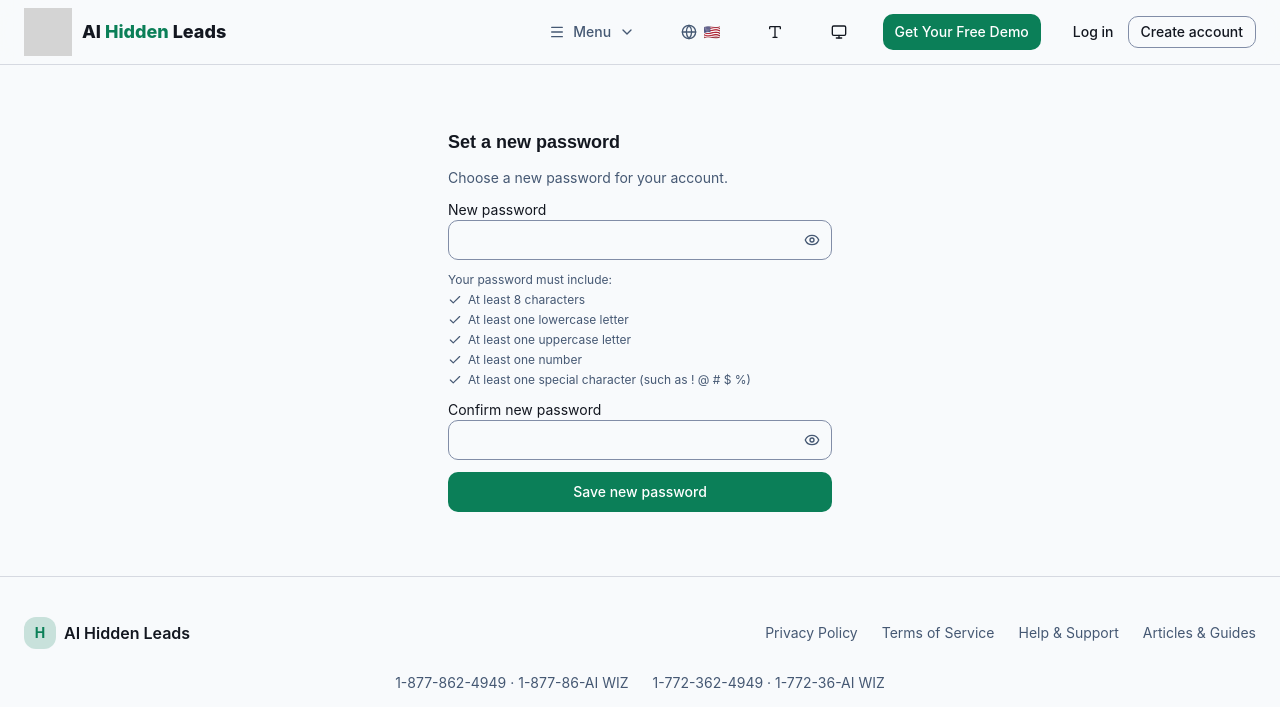
Test: /update-password › rejects passwords shorter than 8 characters before calling Supabase
The image size is (1280, 707).
Type "short" into the password field labelled "New password" at (640, 240), box [448,220,832,260]
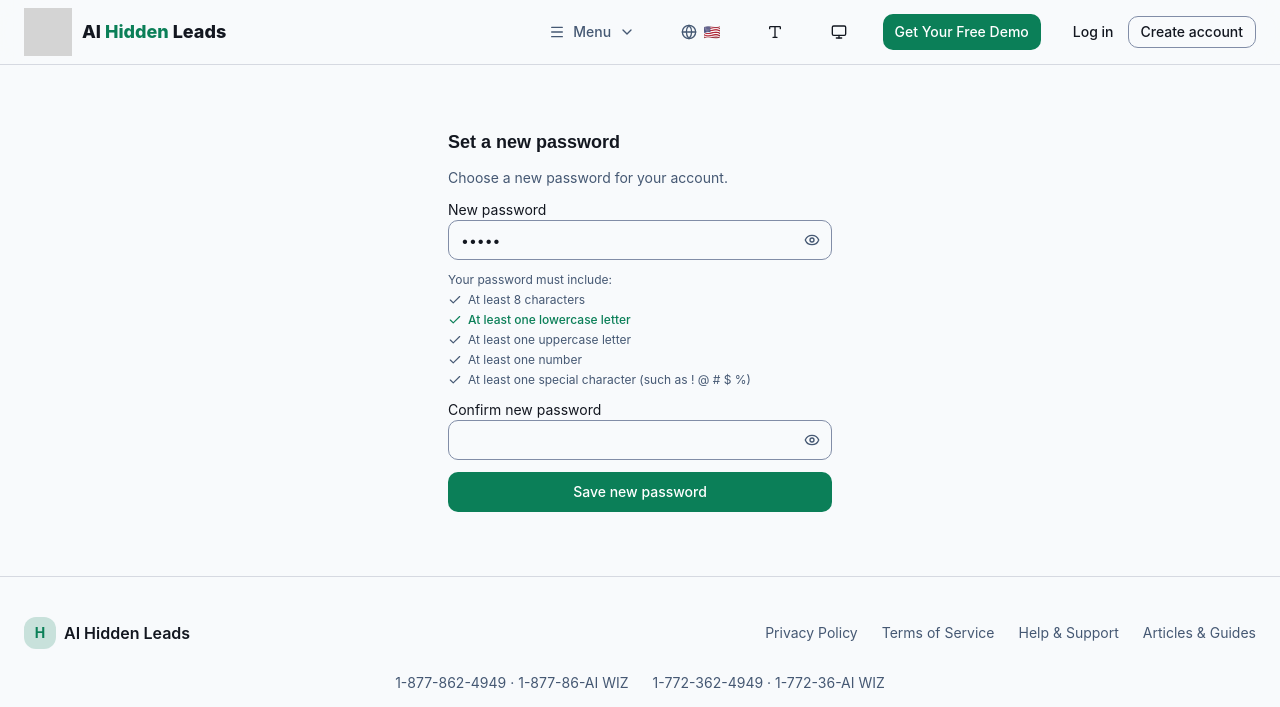
Type "short" into the password field labelled "Confirm new password" at (640, 440), box [448,420,832,460]
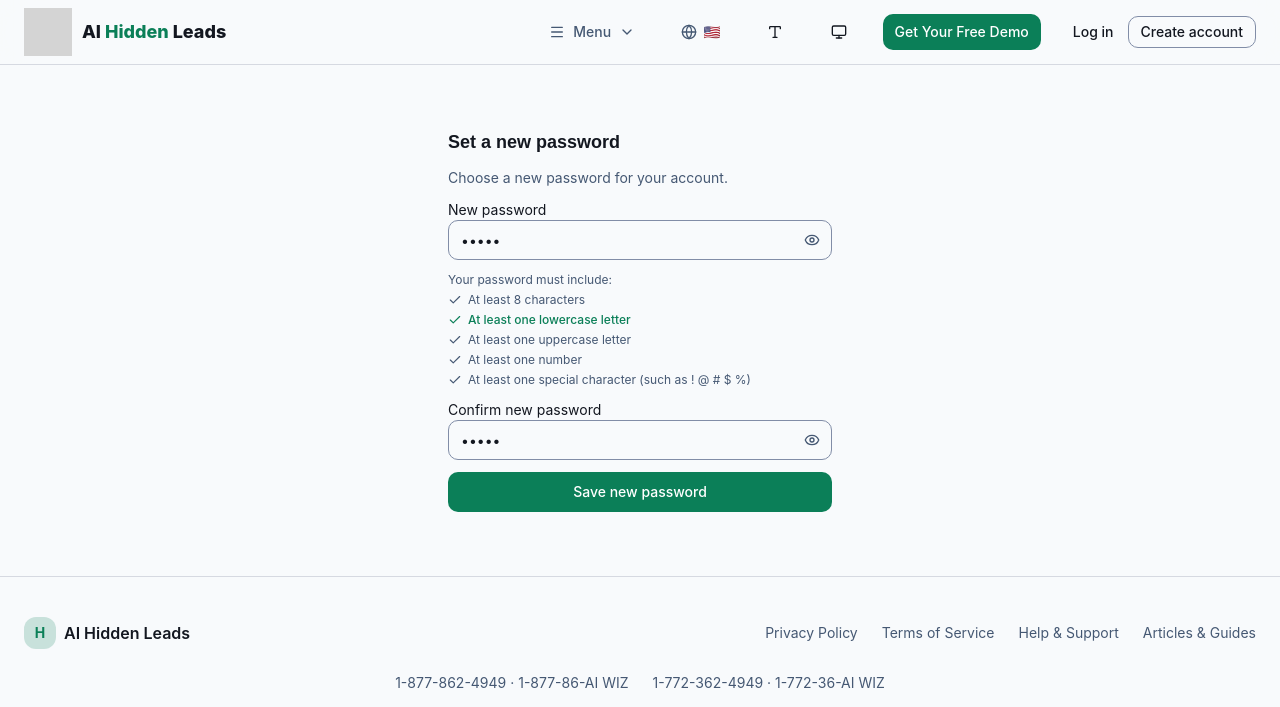
Submit the form named "save new password", box [448,200,832,512]
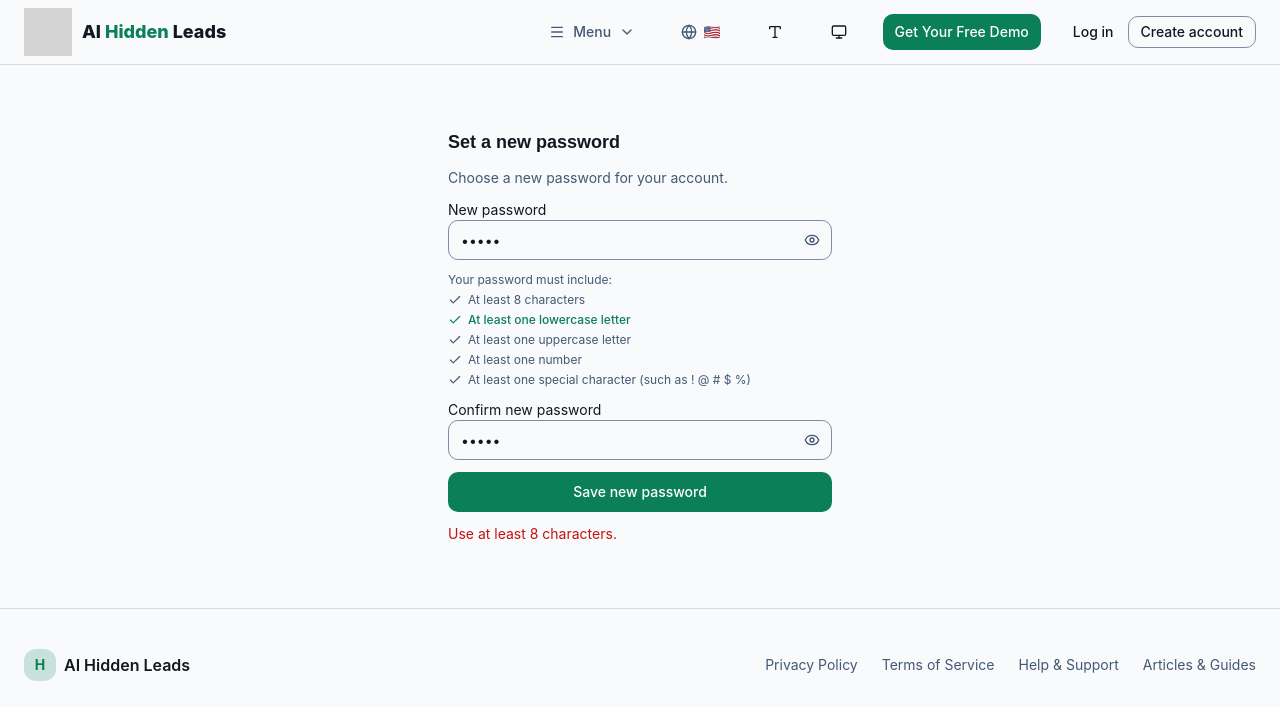
expect the message shows "at least 8 characters": met, box [448,525,617,542]
